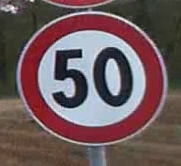limite 50: (16, 11, 170, 144)
